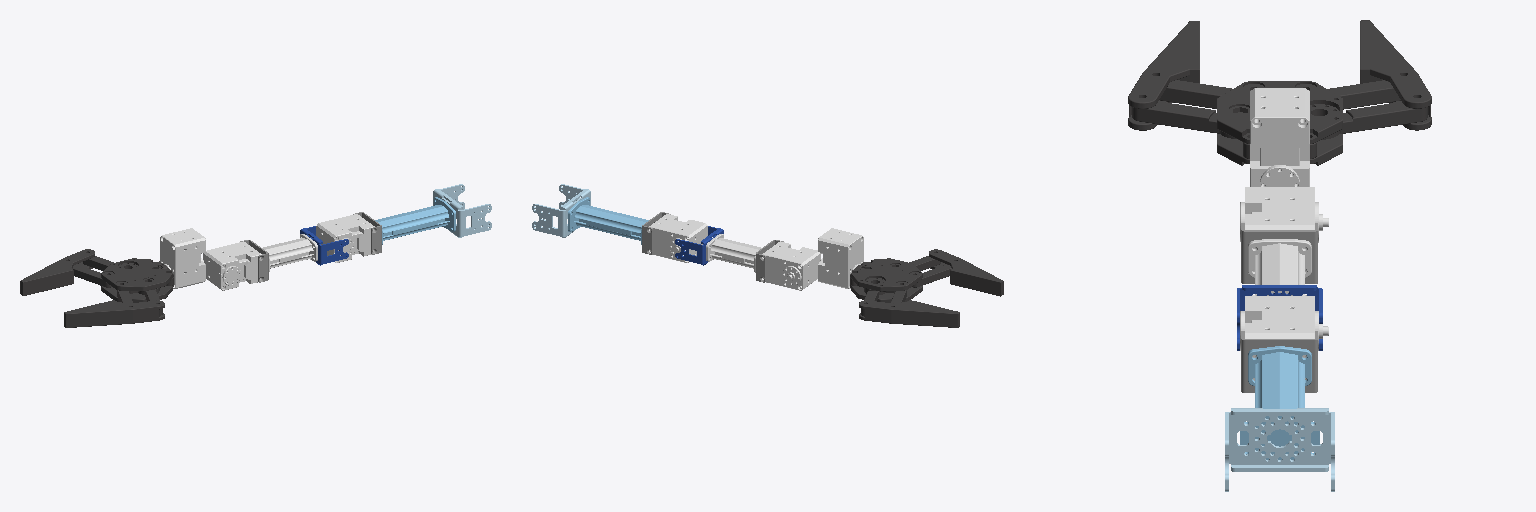
The robot description file, URDF, robot "BOTDAE":
<?xml version="1.0" ?>
<robot name="BOTDAE">
  <link name="link0">
    <inertial>
      <origin xyz="-0.000309241 1.065e-09 0.0263888" rpy="0 0 0"/>
      <mass value="0.264096"/>
      <inertia ixx="0.000113185" ixy="-3e-12" ixz="1.00015e-06" iyy="0.000175727" iyz="8e-12" izz="0.000147128"/>
    </inertial>
    <visual>
      <origin xyz="-0.0155 -0 0.0345" rpy="0 -0 1.5708"/>
      <geometry>
        <mesh filename="assets/dummy_dc13_idle.stl"/>
      </geometry>
      <material name="dummy_dc13_idle_material">
        <color rgba="0.980392 0.713725 0.00392157 1"/>
      </material>
    </visual>
    <collision>
      <origin xyz="-0.0155 -0 0.0345" rpy="0 -0 1.5708"/>
      <geometry>
        <mesh filename="assets/dummy_dc13_idle.stl"/>
      </geometry>
    </collision>
    <visual>
      <origin xyz="-0.0155 0 0.0345" rpy="0 -0 1.5708"/>
      <geometry>
        <mesh filename="assets/part_2.stl"/>
      </geometry>
      <material name="part_2_material">
        <color rgba="0.615686 0.811765 0.929412 1"/>
      </material>
    </visual>
    <collision>
      <origin xyz="-0.0155 0 0.0345" rpy="0 -0 1.5708"/>
      <geometry>
        <mesh filename="assets/part_2.stl"/>
      </geometry>
    </collision>
  </link>
  <link name="link1">
    <inertial>
      <origin xyz="-0.0187056 0.00052996 -0.0430186" rpy="0 0 0"/>
      <mass value="0.212381"/>
      <inertia ixx="8.77419e-05" ixy="-7.29396e-07" ixz="-8.13007e-06" iyy="0.000118352" iyz="3.16036e-07" izz="0.000120043"/>
    </inertial>
    <visual>
      <origin xyz="-0 0 0.0245" rpy="-3.14159 0 1.5708"/>
      <geometry>
        <mesh filename="assets/part_3.stl"/>
      </geometry>
      <material name="part_3_material">
        <color rgba="0.647059 0.647059 0.647059 1"/>
      </material>
    </visual>
    <collision>
      <origin xyz="-0 0 0.0245" rpy="-3.14159 0 1.5708"/>
      <geometry>
        <mesh filename="assets/part_3.stl"/>
      </geometry>
    </collision>
    <visual>
      <origin xyz="0 -0 0.0245" rpy="-3.14159 0 1.5708"/>
      <geometry>
        <mesh filename="assets/dummy_dc13_idle__2.stl"/>
      </geometry>
      <material name="dummy_dc13_idle_2_material">
        <color rgba="0.231373 0.380392 0.705882 1"/>
      </material>
    </visual>
    <collision>
      <origin xyz="0 -0 0.0245" rpy="-3.14159 0 1.5708"/>
      <geometry>
        <mesh filename="assets/dummy_dc13_idle__2.stl"/>
      </geometry>
    </collision>
  </link>
  <link name="link2">
    <inertial>
      <origin xyz="0.113233 -1.89231e-05 0.0241592" rpy="0 0 0"/>
      <mass value="0.122875"/>
      <inertia ixx="2.44938e-05" ixy="3.7118e-08" ixz="1.21033e-06" iyy="0.00027566" iyz="6.54e-10" izz="0.000266476"/>
    </inertial>
    <visual>
      <origin xyz="0.1315 -2.23277e-05 0.024544" rpy="-3.14159 1.5708 0"/>
      <geometry>
        <mesh filename="assets/fr12_s102_k.stl"/>
      </geometry>
      <material name="fr12_s102_k_material">
        <color rgba="0.647059 0.647059 0.647059 1"/>
      </material>
    </visual>
    <collision>
      <origin xyz="0.1315 -2.23277e-05 0.024544" rpy="-3.14159 1.5708 0"/>
      <geometry>
        <mesh filename="assets/fr12_s102_k.stl"/>
      </geometry>
    </collision>
    <visual>
      <origin xyz="0.1525 -2.23277e-05 0.004544" rpy="3.14159 0 1.5708"/>
      <geometry>
        <mesh filename="assets/dummy_dc12.stl"/>
      </geometry>
      <material name="dummy_dc12_material">
        <color rgba="0.917647 0.917647 0.917647 1"/>
      </material>
    </visual>
    <collision>
      <origin xyz="0.1525 -2.23277e-05 0.004544" rpy="3.14159 0 1.5708"/>
      <geometry>
        <mesh filename="assets/dummy_dc12.stl"/>
      </geometry>
    </collision>
    <visual>
      <origin xyz="0.14 -2.23277e-05 0.024544" rpy="-1.5708 1.5708 0"/>
      <geometry>
        <mesh filename="assets/part_2__2.stl"/>
      </geometry>
      <material name="part_2_2_material">
        <color rgba="0.615686 0.811765 0.929412 1"/>
      </material>
    </visual>
    <collision>
      <origin xyz="0.14 -2.23277e-05 0.024544" rpy="-1.5708 1.5708 0"/>
      <geometry>
        <mesh filename="assets/part_2__2.stl"/>
      </geometry>
    </collision>
    <visual>
      <origin xyz="-0 0 0.0245" rpy="1.5708 1.5708 0"/>
      <geometry>
        <mesh filename="assets/fr13_h101_k.stl"/>
      </geometry>
      <material name="fr13_h101_k_material">
        <color rgba="0.768627 0.886275 0.952941 1"/>
      </material>
    </visual>
    <collision>
      <origin xyz="-0 0 0.0245" rpy="1.5708 1.5708 0"/>
      <geometry>
        <mesh filename="assets/fr13_h101_k.stl"/>
      </geometry>
    </collision>
  </link>
  <link name="link3">
    <inertial>
      <origin xyz="0.0971416 0 0.0185718" rpy="0 0 0"/>
      <mass value="0.108493"/>
      <inertia ixx="1.79972e-05" ixy="0" ixz="6.83803e-07" iyy="0.000118945" iyz="-0" izz="0.000113634"/>
    </inertial>
    <visual>
      <origin xyz="0.1025 -0 0.019" rpy="3.14159 1.5708 0"/>
      <geometry>
        <mesh filename="assets/part_2__3.stl"/>
      </geometry>
      <material name="part_2_3_material">
        <color rgba="0.917647 0.917647 0.917647 1"/>
      </material>
    </visual>
    <collision>
      <origin xyz="0.1025 -0 0.019" rpy="3.14159 1.5708 0"/>
      <geometry>
        <mesh filename="assets/part_2__3.stl"/>
      </geometry>
    </collision>
    <visual>
      <origin xyz="0.1235 0 -0.001" rpy="-3.14159 0 1.5708"/>
      <geometry>
        <mesh filename="assets/dummy_dc12.stl"/>
      </geometry>
      <material name="dummy_dc12_2_material">
        <color rgba="0.917647 0.917647 0.917647 1"/>
      </material>
    </visual>
    <collision>
      <origin xyz="0.1235 0 -0.001" rpy="-3.14159 0 1.5708"/>
      <geometry>
        <mesh filename="assets/dummy_dc12.stl"/>
      </geometry>
    </collision>
    <visual>
      <origin xyz="0 0 0.019" rpy="1.5708 1.5708 0"/>
      <geometry>
        <mesh filename="assets/fr12_h101_k.stl"/>
      </geometry>
      <material name="fr12_h101_k_material">
        <color rgba="0.231373 0.380392 0.705882 1"/>
      </material>
    </visual>
    <collision>
      <origin xyz="0 0 0.019" rpy="1.5708 1.5708 0"/>
      <geometry>
        <mesh filename="assets/fr12_h101_k.stl"/>
      </geometry>
    </collision>
    <visual>
      <origin xyz="0.1025 -0 0.019" rpy="3.14159 1.5708 0"/>
      <geometry>
        <mesh filename="assets/fr12_s102_k.stl"/>
      </geometry>
      <material name="fr12_s102_k_2_material">
        <color rgba="0.647059 0.647059 0.647059 1"/>
      </material>
    </visual>
    <collision>
      <origin xyz="0.1025 -0 0.019" rpy="3.14159 1.5708 0"/>
      <geometry>
        <mesh filename="assets/fr12_s102_k.stl"/>
      </geometry>
    </collision>
  </link>
  <link name="link4">
    <inertial>
      <origin xyz="0.0410585 -0.017802 0.01895" rpy="0 0 0"/>
      <mass value="0.0954853"/>
      <inertia ixx="2.88963e-05" ixy="3.67331e-06" ixz="1e-11" iyy="2.52627e-05" iyz="-1.1e-11" izz="3.31782e-05"/>
    </inertial>
    <visual>
      <origin xyz="0.06265 -0.0085 0.018825" rpy="0 -1.5708 0"/>
      <geometry>
        <mesh filename="assets/j4_j5_mirrored.stl"/>
      </geometry>
      <material name="j4_j5_mirrored_material">
        <color rgba="0.537255 0.854902 0.827451 1"/>
      </material>
    </visual>
    <collision>
      <origin xyz="0.06265 -0.0085 0.018825" rpy="0 -1.5708 0"/>
      <geometry>
        <mesh filename="assets/j4_j5_mirrored.stl"/>
      </geometry>
    </collision>
    <visual>
      <origin xyz="0.06265 -0.0085 -0.027075" rpy="0 -1.5708 0"/>
      <geometry>
        <mesh filename="assets/j4_j5_mirrored__2.stl"/>
      </geometry>
      <material name="j4_j5_mirrored_2_material">
        <color rgba="0.537255 0.854902 0.827451 1"/>
      </material>
    </visual>
    <collision>
      <origin xyz="0.06265 -0.0085 -0.027075" rpy="0 -1.5708 0"/>
      <geometry>
        <mesh filename="assets/j4_j5_mirrored__2.stl"/>
      </geometry>
    </collision>
    <visual>
      <origin xyz="0.06265 -0.0085 0.01895" rpy="-0 1.5708 0"/>
      <geometry>
        <mesh filename="assets/dummy_dc12.stl"/>
      </geometry>
      <material name="dummy_dc12_3_material">
        <color rgba="0.917647 0.917647 0.917647 1"/>
      </material>
    </visual>
    <collision>
      <origin xyz="0.06265 -0.0085 0.01895" rpy="-0 1.5708 0"/>
      <geometry>
        <mesh filename="assets/dummy_dc12.stl"/>
      </geometry>
    </collision>
  </link>
  <link name="link5">
    <inertial>
      <origin xyz="0.000308146 -0.000777381 -0.0297451" rpy="0 0 0"/>
      <mass value="0.0294484"/>
      <inertia ixx="1.54088e-05" ixy="-1.91104e-07" ixz="2.313e-09" iyy="9.74641e-06" iyz="-5.836e-09" izz="8.03326e-06"/>
    </inertial>
    <visual>
      <origin xyz="-0 0 -0" rpy="-3.14159 0 1.5708"/>
      <geometry>
        <mesh filename="assets/p01_05_base.stl"/>
      </geometry>
      <material name="p01_05_base_material">
        <color rgba="0.32549 0.317647 0.317647 1"/>
      </material>
    </visual>
    <collision>
      <origin xyz="-0 0 -0" rpy="-3.14159 0 1.5708"/>
      <geometry>
        <mesh filename="assets/p01_05_base.stl"/>
      </geometry>
    </collision>
    <visual>
      <origin xyz="-5e-05 0 -0" rpy="3.14159 0 1.5708"/>
      <geometry>
        <mesh filename="assets/p01_07_body.stl"/>
      </geometry>
      <material name="p01_07_body_material">
        <color rgba="0.32549 0.317647 0.317647 1"/>
      </material>
    </visual>
    <collision>
      <origin xyz="-5e-05 0 -0" rpy="3.14159 0 1.5708"/>
      <geometry>
        <mesh filename="assets/p01_07_body.stl"/>
      </geometry>
    </collision>
    <visual>
      <origin xyz="5e-05 0 -0" rpy="-3.14159 0 1.5708"/>
      <geometry>
        <mesh filename="assets/p01_06_body_motor.stl"/>
      </geometry>
      <material name="p01_06_body_motor_material">
        <color rgba="0.32549 0.317647 0.317647 1"/>
      </material>
    </visual>
    <collision>
      <origin xyz="5e-05 0 -0" rpy="-3.14159 0 1.5708"/>
      <geometry>
        <mesh filename="assets/p01_06_body_motor.stl"/>
      </geometry>
    </collision>
    <visual>
      <origin xyz="-0.0228 0.0275 -0.09265" rpy="-3.14159 -0 0"/>
      <geometry>
        <mesh filename="assets/dummy_dc12__2.stl"/>
      </geometry>
      <material name="dummy_dc12_4_material">
        <color rgba="0.917647 0.917647 0.917647 1"/>
      </material>
    </visual>
    <collision>
      <origin xyz="-0.0228 0.0275 -0.09265" rpy="-3.14159 -0 0"/>
      <geometry>
        <mesh filename="assets/dummy_dc12__2.stl"/>
      </geometry>
    </collision>
  </link>
  <link name="link6">
    <inertial>
      <origin xyz="-0.00148139 -0.0131112 -0.00445993" rpy="0 0 0"/>
      <mass value="0.00659741"/>
      <inertia ixx="2.745e-06" ixy="1.87617e-07" ixz="5.675e-09" iyy="2.4936e-07" iyz="5.7184e-08" izz="2.90928e-06"/>
    </inertial>
    <visual>
      <origin xyz="-0.019 0.03 -0.00385" rpy="1.5708 -0 -0"/>
      <geometry>
        <mesh filename="assets/p01_01_gearlink_motor.stl"/>
      </geometry>
      <material name="p01_01_gearlink_motor_material">
        <color rgba="0.32549 0.317647 0.317647 1"/>
      </material>
    </visual>
    <collision>
      <origin xyz="-0.019 0.03 -0.00385" rpy="1.5708 -0 -0"/>
      <geometry>
        <mesh filename="assets/p01_01_gearlink_motor.stl"/>
      </geometry>
    </collision>
  </link>
  <joint name="joint_6" type="revolute">
    <origin xyz="0.00395 0.019 -0.03" rpy="1.5708 -1.22173 1.5708"/>
    <parent link="link5"/>
    <child link="link6"/>
    <axis xyz="0 0 1"/>
    <limit effort="10" velocity="10" lower="-1.0472" upper="0.349066"/>
  </joint>
  <link name="link7">
    <inertial>
      <origin xyz="-0.0122134 0.00612548 -0.00388399" rpy="0 0 0"/>
      <mass value="0.00640183"/>
      <inertia ixx="3.95771e-07" ixy="6.43693e-07" ixz="1.7e-10" iyy="2.52036e-06" iyz="-4.27e-10" izz="2.86735e-06"/>
    </inertial>
    <visual>
      <origin xyz="0.0346892 0.00759356 -0.00385" rpy="-1.5708 -0 1.22173"/>
      <geometry>
        <mesh filename="assets/p01_02_gearlink.stl"/>
      </geometry>
      <material name="p01_02_gearlink_material">
        <color rgba="0.32549 0.317647 0.317647 1"/>
      </material>
    </visual>
    <collision>
      <origin xyz="0.0346892 0.00759356 -0.00385" rpy="-1.5708 -0 1.22173"/>
      <geometry>
        <mesh filename="assets/p01_02_gearlink.stl"/>
      </geometry>
    </collision>
  </link>
  <joint name="joint_6_mimic_gear" type="revolute">
    <origin xyz="-0.00395 -0.019 -0.03" rpy="-1.5708 0 1.5708"/>
    <parent link="link5"/>
    <child link="link7"/>
    <axis xyz="0 0 1"/>
    <limit effort="10" velocity="10" lower="-3.141592653589793" upper="3.141592653589793"/>
    <mimic joint="joint_6" multiplier="1.0"/>
  </joint>
  <link name="link9">
    <inertial>
      <origin xyz="0.0234923 -0.0085505 -0.00385" rpy="0 0 0"/>
      <mass value="0.00411112"/>
      <inertia ixx="1.76756e-07" ixy="3.35759e-07" ixz="0" iyy="9.7704e-07" iyz="0" izz="1.11342e-06"/>
    </inertial>
    <visual>
      <origin xyz="0.103107 -0.0242256 -0.00385" rpy="1.5708 0 -1.91986"/>
      <geometry>
        <mesh filename="assets/p01_03_link.stl"/>
      </geometry>
      <material name="p01_03_link_material">
        <color rgba="0.32549 0.317647 0.317647 1"/>
      </material>
    </visual>
    <collision>
      <origin xyz="0.103107 -0.0242256 -0.00385" rpy="1.5708 0 -1.91986"/>
      <geometry>
        <mesh filename="assets/p01_03_link.stl"/>
      </geometry>
    </collision>
  </link>
  <link name="link10">
    <inertial>
      <origin xyz="0.0203246 0.00182357 0.004" rpy="0 0 0"/>
      <mass value="0.0165615"/>
      <inertia ixx="8.51516e-07" ixy="2.37795e-07" ixz="-0" iyy="8.75865e-06" iyz="-0" izz="8.887e-06"/>
    </inertial>
    <visual>
      <origin xyz="-0.090873 0.0556169 0.004" rpy="-1.5708 -0 -1.91986"/>
      <geometry>
        <mesh filename="assets/p01_04_finger.stl"/>
      </geometry>
      <material name="p01_04_finger_material">
        <color rgba="0.32549 0.317647 0.317647 1"/>
      </material>
    </visual>
    <collision>
      <origin xyz="-0.090873 0.0556169 0.004" rpy="-1.5708 -0 -1.91986"/>
      <geometry>
        <mesh filename="assets/p01_04_finger.stl"/>
      </geometry>
    </collision>
  </link>
  <link name="link6_2">
    <inertial>
      <origin xyz="-0.00148139 0.0368888 -0.00445993" rpy="0 0 0"/>
      <mass value="0.00659741"/>
      <inertia ixx="2.745e-06" ixy="1.87617e-07" ixz="5.675e-09" iyy="2.4936e-07" iyz="5.7184e-08" izz="2.90928e-06"/>
    </inertial>
    <visual>
      <origin xyz="-0.019 0.08 -0.00385" rpy="1.5708 -0 -0"/>
      <geometry>
        <mesh filename="assets/p01_01_gearlink_motor.stl"/>
      </geometry>
      <material name="p01_01_gearlink_motor_2_material">
        <color rgba="0.32549 0.317647 0.317647 1"/>
      </material>
    </visual>
    <collision>
      <origin xyz="-0.019 0.08 -0.00385" rpy="1.5708 -0 -0"/>
      <geometry>
        <mesh filename="assets/p01_01_gearlink_motor.stl"/>
      </geometry>
    </collision>
  </link>
  <joint name="joint_6_mimic_L2" type="revolute">
    <origin xyz="-0.0258793 0.00250215 0" rpy="-3.14159 -0 3.14159"/>
    <parent link="link10"/>
    <child link="link6_2"/>
    <axis xyz="0 0 1"/>
    <limit effort="10" velocity="10" lower="-3.141592653589793" upper="3.141592653589793"/>
  </joint>
  <joint name="joint_6_mimic_L3" type="revolute">
    <origin xyz="0.0469846 -0.017101 0" rpy="-3.14159 0 -1.91986"/>
    <parent link="link9"/>
    <child link="link10"/>
    <axis xyz="0 0 1"/>
    <limit effort="10" velocity="10" lower="-3.141592653589793" upper="3.141592653589793"/>
  </joint>
  <joint name="joint_6_mimic_L1" type="revolute">
    <origin xyz="0.00395 0.0125 -0.0551744" rpy="1.5708 0 1.5708"/>
    <parent link="link5"/>
    <child link="link9"/>
    <axis xyz="0 0 1"/>
    <limit effort="10" velocity="10" lower="-3.141592653589793" upper="3.141592653589793"/>
  </joint>
  <link name="link8">
    <inertial>
      <origin xyz="-0.0234923 0.0085505 -0.00385" rpy="0 0 0"/>
      <mass value="0.00411112"/>
      <inertia ixx="1.76756e-07" ixy="3.35759e-07" ixz="0" iyy="9.7704e-07" iyz="0" izz="1.11342e-06"/>
    </inertial>
    <visual>
      <origin xyz="-0.0945563 0.0477179 -0.00385" rpy="-1.5708 0 -1.91986"/>
      <geometry>
        <mesh filename="assets/p01_03_link.stl"/>
      </geometry>
      <material name="p01_03_link_2_material">
        <color rgba="0.32549 0.317647 0.317647 1"/>
      </material>
    </visual>
    <collision>
      <origin xyz="-0.0945563 0.0477179 -0.00385" rpy="-1.5708 0 -1.91986"/>
      <geometry>
        <mesh filename="assets/p01_03_link.stl"/>
      </geometry>
    </collision>
  </link>
  <link name="link11">
    <inertial>
      <origin xyz="-0.00866502 0.0184752 0.004" rpy="0 0 0"/>
      <mass value="0.0165615"/>
      <inertia ixx="7.98655e-06" ixy="2.35914e-06" ixz="0" iyy="1.62362e-06" iyz="-0" izz="8.887e-06"/>
    </inertial>
    <visual>
      <origin xyz="-0.0211824 -0.104415 0.004" rpy="-1.5708 0 -0"/>
      <geometry>
        <mesh filename="assets/p01_04_finger.stl"/>
      </geometry>
      <material name="p01_04_finger_2_material">
        <color rgba="0.32549 0.317647 0.317647 1"/>
      </material>
    </visual>
    <collision>
      <origin xyz="-0.0211824 -0.104415 0.004" rpy="-1.5708 0 -0"/>
      <geometry>
        <mesh filename="assets/p01_04_finger.stl"/>
      </geometry>
    </collision>
  </link>
  <link name="link7_2">
    <inertial>
      <origin xyz="0.00157884 -0.0364281 -0.00388399" rpy="0 0 0"/>
      <mass value="0.00640183"/>
      <inertia ixx="2.68558e-06" ixy="1.89731e-07" ixz="-3.44e-10" iyy="2.30542e-07" iyz="-3.05e-10" izz="2.86735e-06"/>
    </inertial>
    <visual>
      <origin xyz="0.019 -0.08 -0.00385" rpy="-1.5708 0 0"/>
      <geometry>
        <mesh filename="assets/p01_02_gearlink.stl"/>
      </geometry>
      <material name="p01_02_gearlink_2_material">
        <color rgba="0.32549 0.317647 0.317647 1"/>
      </material>
    </visual>
    <collision>
      <origin xyz="0.019 -0.08 -0.00385" rpy="-1.5708 0 0"/>
      <geometry>
        <mesh filename="assets/p01_02_gearlink.stl"/>
      </geometry>
    </collision>
  </link>
  <joint name="joint_6_mimic_R2" type="revolute">
    <origin xyz="0.0065 -0.0251744 0" rpy="3.14159 0 1.91986"/>
    <parent link="link11"/>
    <child link="link7_2"/>
    <axis xyz="0 0 1"/>
    <limit effort="10" velocity="10" lower="-3.141592653589793" upper="3.141592653589793"/>
  </joint>
  <joint name="joint_6_mimic_R3" type="revolute">
    <origin xyz="-0.0469846 0.017101 0" rpy="-3.14159 -0 -3.14159"/>
    <parent link="link8"/>
    <child link="link11"/>
    <axis xyz="0 0 1"/>
    <limit effort="10" velocity="10" lower="-3.141592653589793" upper="3.141592653589793"/>
  </joint>
  <joint name="joint_6_mimic_R1" type="revolute">
    <origin xyz="-0.00395 -0.0125 -0.0551744" rpy="-1.5708 0 1.5708"/>
    <parent link="link5"/>
    <child link="link8"/>
    <axis xyz="0 0 1"/>
    <limit effort="10" velocity="10" lower="-3.141592653589793" upper="3.141592653589793"/>
  </joint>
  <joint name="joint_5" type="revolute">
    <origin xyz="0.06165 -0.0085 0.01895" rpy="-1.5708 -0 1.5708"/>
    <parent link="link4"/>
    <child link="link5"/>
    <axis xyz="0 0 1"/>
    <limit effort="10" velocity="10" lower="-1.5708" upper="1.5708"/>
  </joint>
  <joint name="joint_4" type="revolute">
    <origin xyz="0.1235 0 -0" rpy="-0 0 0"/>
    <parent link="link3"/>
    <child link="link4"/>
    <axis xyz="0 0 1"/>
    <limit effort="10" velocity="10" lower="-0.523599" upper="1.5708"/>
  </joint>
  <joint name="joint_3" type="revolute">
    <origin xyz="0.1525 -2.23277e-05 0.005544" rpy="-0 0 0"/>
    <parent link="link2"/>
    <child link="link3"/>
    <axis xyz="0 0 1"/>
    <limit effort="10" velocity="10" lower="-0.523599" upper="1.5708"/>
  </joint>
  <joint name="joint_2" type="revolute">
    <origin xyz="-1.0941e-08 0.0245004 -0.0458276" rpy="1.5708 0 4.46576e-07"/>
    <parent link="link1"/>
    <child link="link2"/>
    <axis xyz="0 0 1"/>
    <limit effort="10" velocity="10" lower="-1.5708" upper="0.523599"/>
  </joint>
  <joint name="joint_1" type="revolute">
    <origin xyz="-0.0155 -0 0.059" rpy="3.14159 -0 3.14159"/>
    <parent link="link0"/>
    <child link="link1"/>
    <axis xyz="0 0 1"/>
    <limit effort="10" velocity="10" lower="-1.5708" upper="1.5708"/>
  </joint>
</robot>

--- What the picture shows (computed from the rendered views, not written in the file) ---
The picture shows the robot from 3 angles, left to right: view 1: azimuth 30°, elevation 25°; view 2: azimuth 150°, elevation 25°; view 3: azimuth 270°, elevation 25°; orthographic projection.
Model BOTDAE with 14 links and 13 joints (13 revolute), rooted at link0, posed all joints at 0.
Links seen in each view (by area): view 1: link2, link3, link5, link4, link11, link10; view 2: link2, link3, link5, link4, link10, link11; view 3: link2, link3, link4, link5, link10, link11, link6, link9, link8, link7_2, link7.
Boxes of the visible links, <box> form: link2: <box>316,184,491,262</box>; link3: <box>203,226,348,290</box>; link5: <box>101,258,173,302</box>; link4: <box>160,228,205,288</box>; link11: <box>64,300,164,327</box>; link10: <box>20,249,94,295</box>; link2: <box>532,184,707,262</box>; link3: <box>675,226,820,290</box>; link5: <box>850,258,922,302</box>; link4: <box>818,228,863,288</box>; link10: <box>859,300,959,327</box>; link11: <box>929,249,1003,296</box>; link2: <box>1225,296,1334,491</box>; link3: <box>1237,187,1328,350</box>; link4: <box>1250,88,1309,186</box>; link5: <box>1217,81,1342,165</box>; link10: <box>1360,20,1431,130</box>; link11: <box>1128,21,1199,130</box>; link6: <box>1310,102,1427,139</box>; link9: <box>1328,80,1400,109</box>; link8: <box>1160,80,1231,108</box>; link7_2: <box>1134,101,1216,123</box>; link7: <box>1132,107,1235,138</box>.
Size in the robot's own frame: 0.474 by 0.146 by 0.0598 metres.
Meshes: 20 distinct files referenced, 20 mesh visuals loaded (13 binary STL); not drawn: 7 (reference not matched to a file when rendering).
